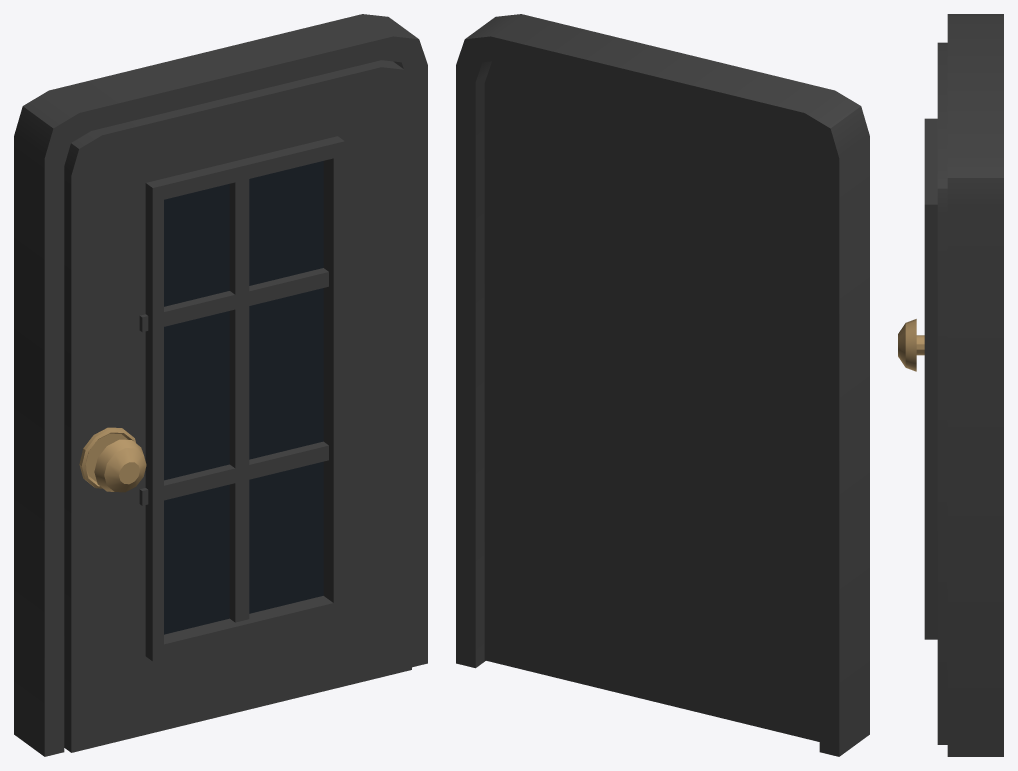
The model's file is SM_door_01.fbx.
3 views of the same model, side by side, from view 1: azimuth 30°, elevation 25°; view 2: azimuth 150°, elevation 25°; view 3: azimuth 270°, elevation 25° (orthographic). The views are drawn at different scales.
Parts seen in each view (by area): view 1: Box029; view 2: Box029; view 3: Box029.
Part boxes in pixels (x1,y1,x2,y2): Box029: (14, 14, 427, 756); Box029: (456, 14, 869, 756); Box029: (898, 14, 1003, 756).
Bounding box in the file's own units: 49.74 × 78.84 × 12.98.
